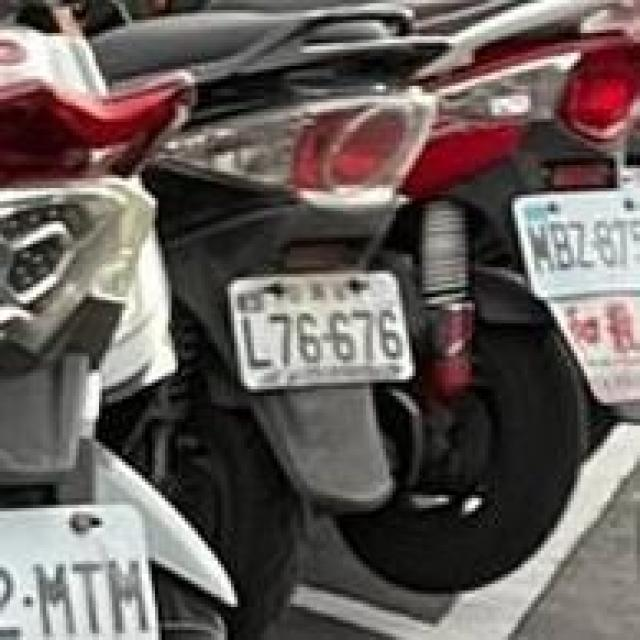W: (214, 250, 419, 402), (0, 491, 168, 640), (504, 168, 640, 306)
